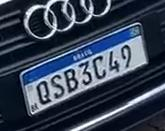Placa_mercosul_carro: (22, 24, 146, 114)
